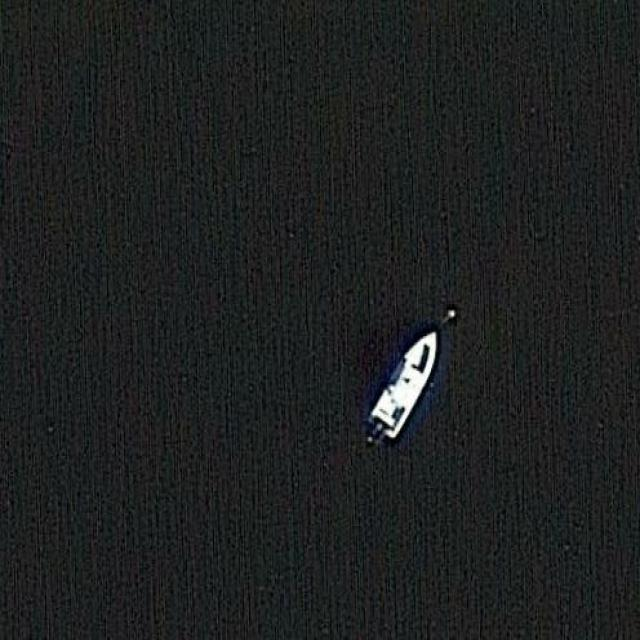ship: (361, 318, 443, 446)
